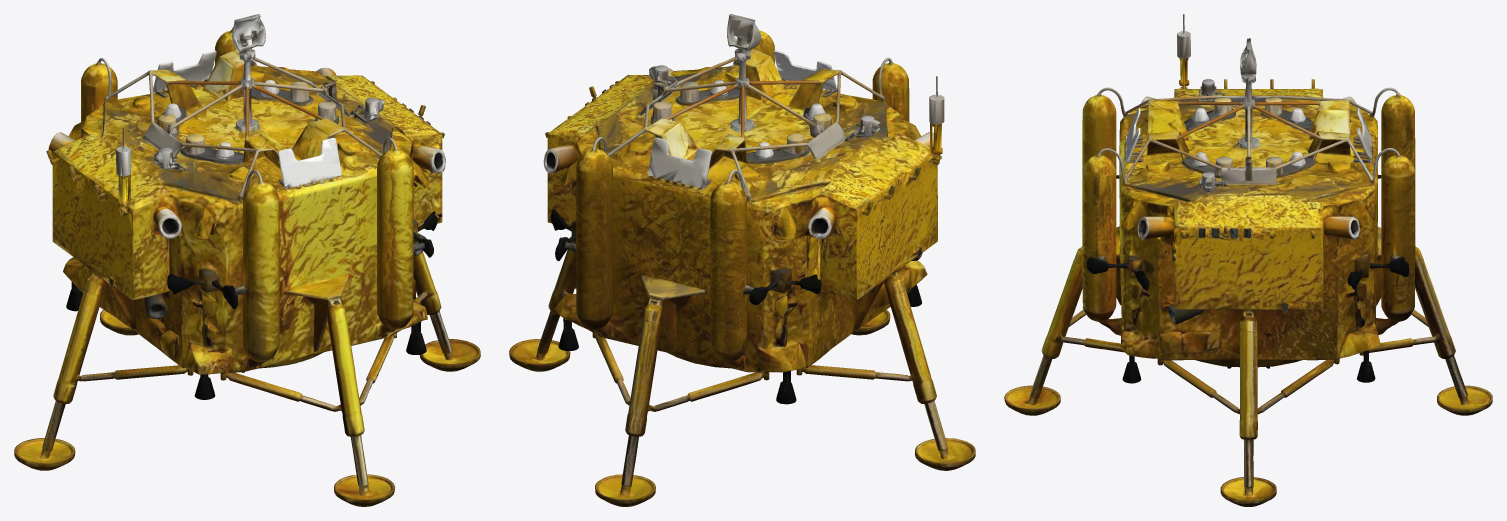
File: lander.glb
3 views of the same model, side by side, from view 1: azimuth 30°, elevation 25°; view 2: azimuth 150°, elevation 25°; view 3: azimuth 270°, elevation 25° (orthographic). The views are drawn at different scales.
Visible parts, largest first — view 1: tripo_node_46d24634-5f31-4ac6-9a73-2c6a57f4131c; view 2: tripo_node_46d24634-5f31-4ac6-9a73-2c6a57f4131c; view 3: tripo_node_46d24634-5f31-4ac6-9a73-2c6a57f4131c.
Boxes of the visible parts, x1,y1,x2,y2 form: tripo_node_46d24634-5f31-4ac6-9a73-2c6a57f4131c: (14,14,480,506); tripo_node_46d24634-5f31-4ac6-9a73-2c6a57f4131c: (509,14,975,506); tripo_node_46d24634-5f31-4ac6-9a73-2c6a57f4131c: (1004,14,1492,506).
Bounding box in the file's own units: 0.9784 × 0.8131 × 0.9802.
Materials: 1 (1 with a texture image).
